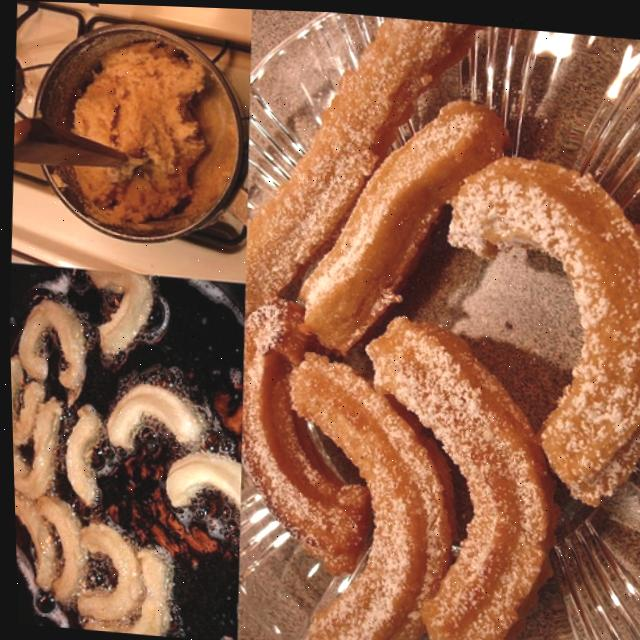炸货点心: (227, 9, 640, 640)
